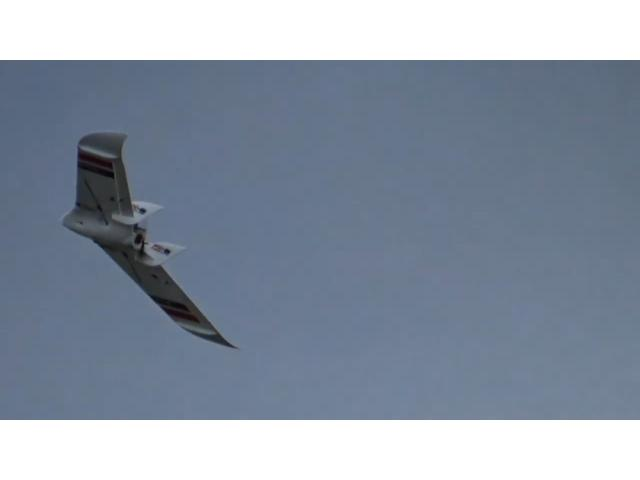Anti-Drone: (58, 130, 248, 352)
